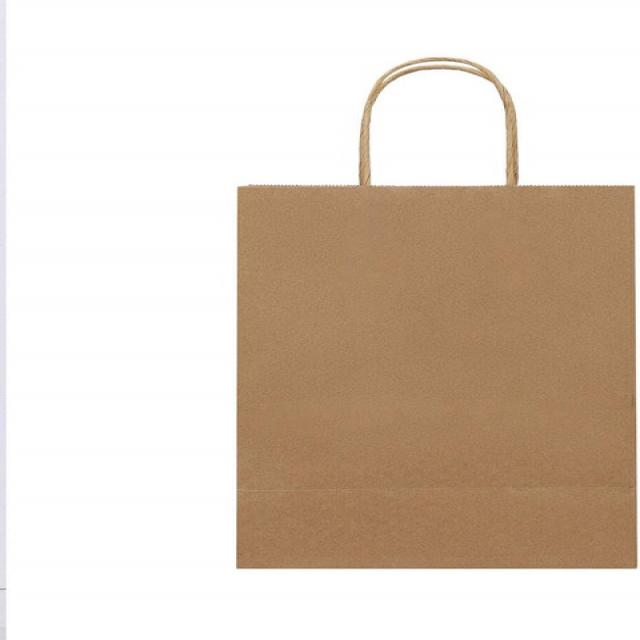paper bag: (222, 52, 640, 591)
